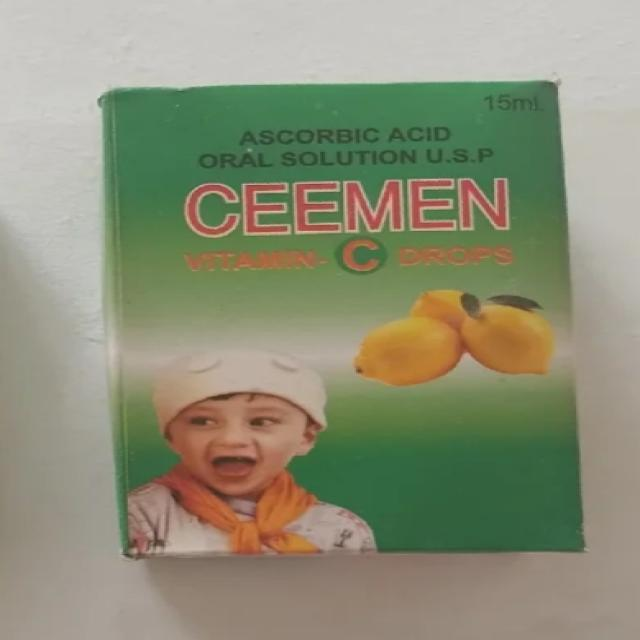drug-name: (183, 178, 514, 238)
